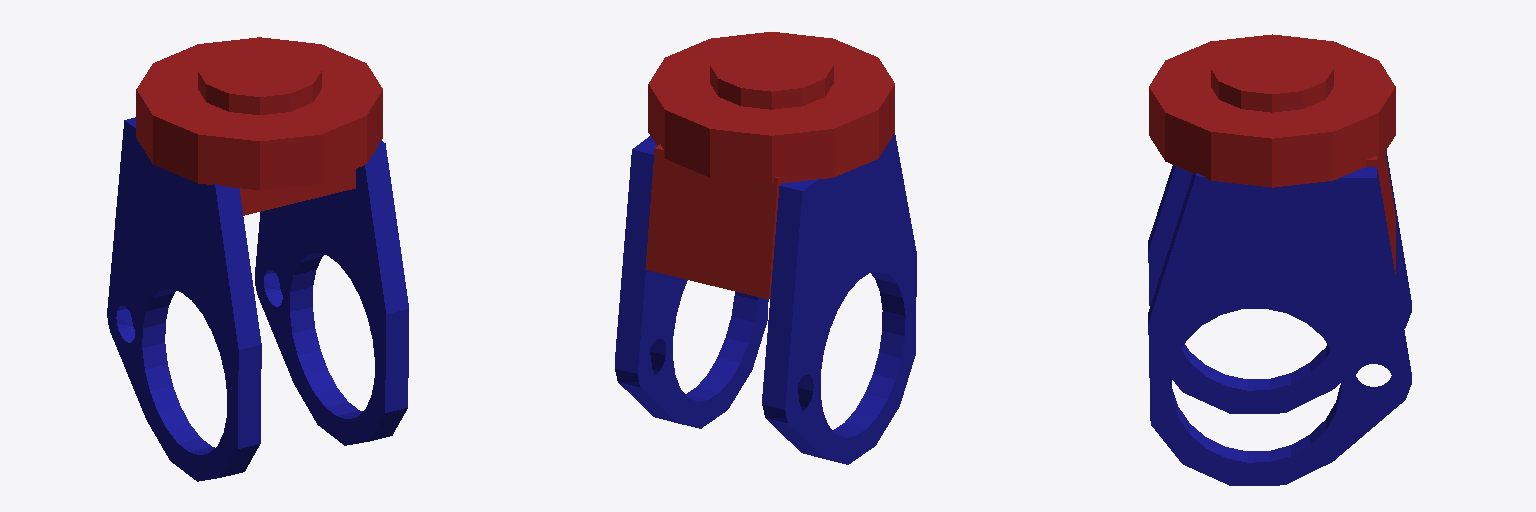
The model's file is R_HAA.obj.
The picture shows the model from 3 angles: view 1: azimuth 30°, elevation 25°; view 2: azimuth 150°, elevation 25°; view 3: azimuth 270°, elevation 25°; orthographic projection.
Size of the model in its own units: 4.06 by 6.82 by 4.34.